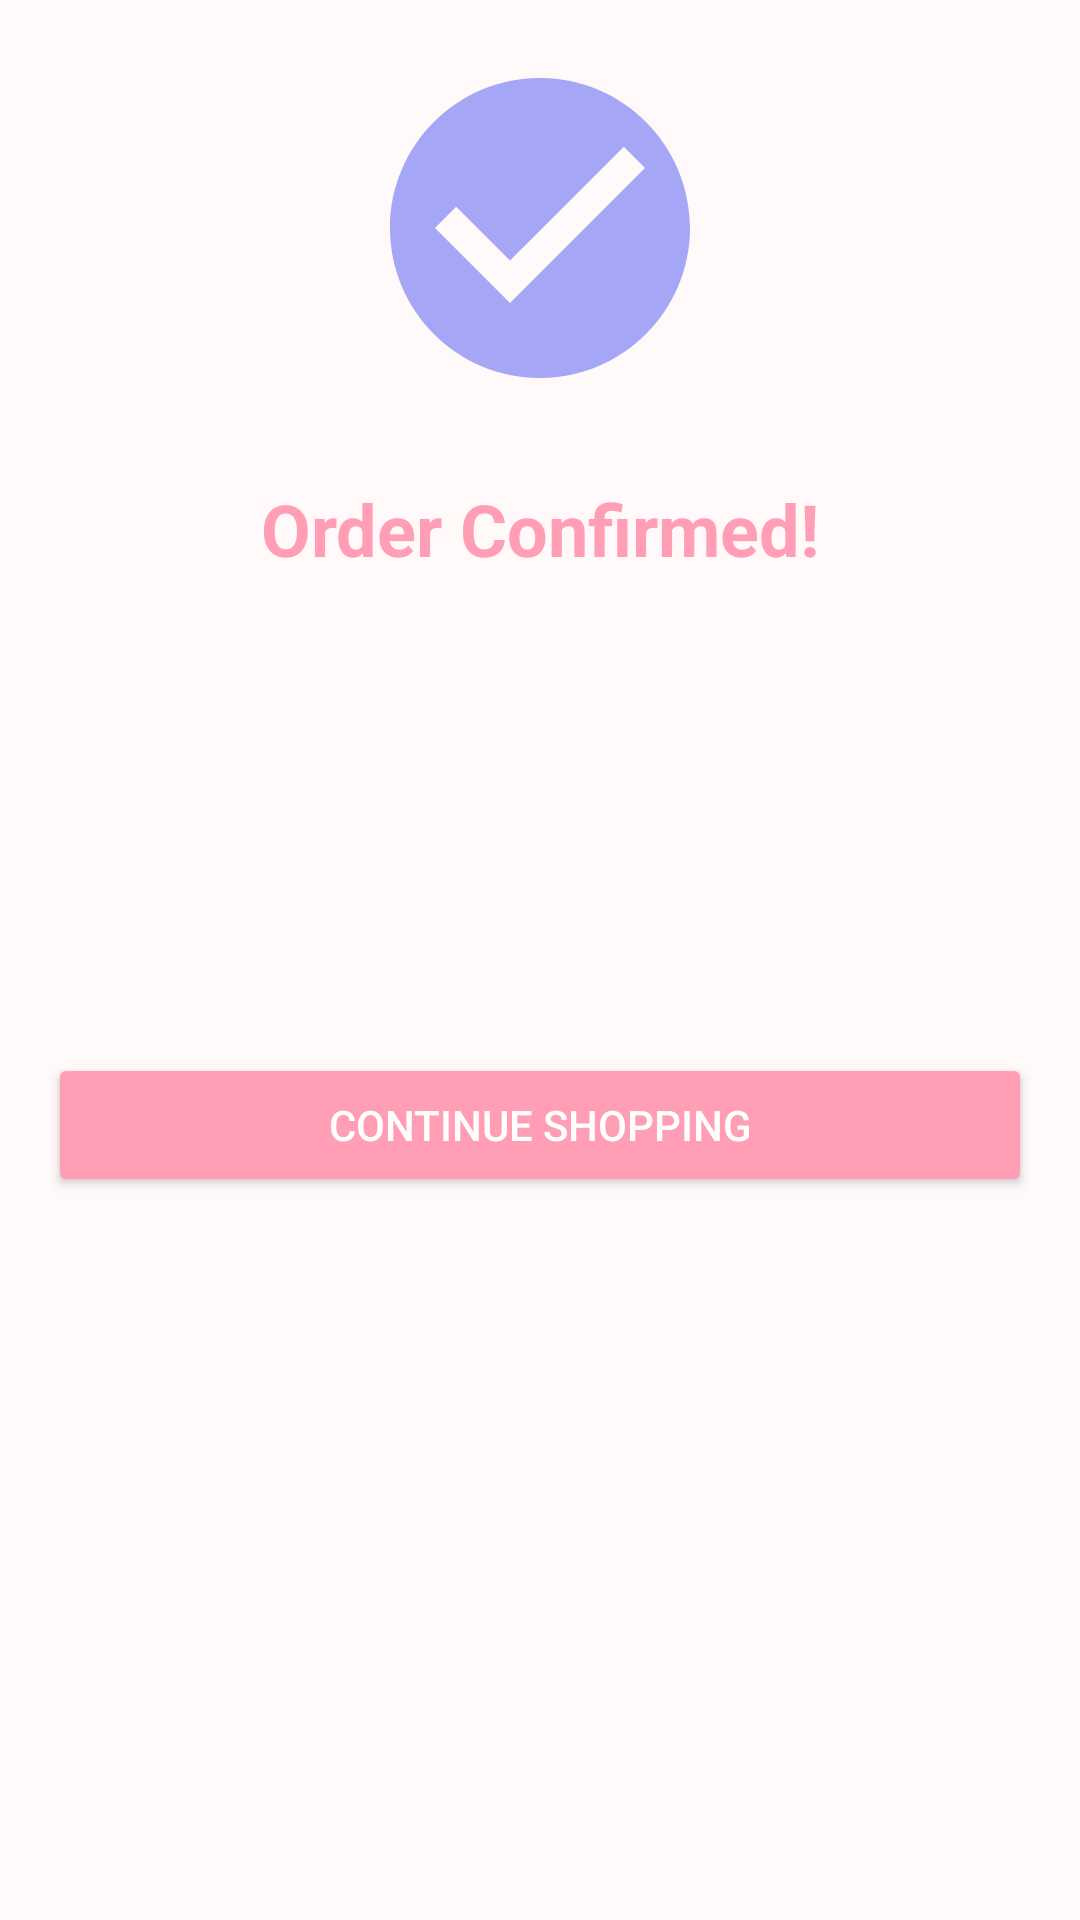

Point at icon controls on the screen. Image size 1080w x 1920h, points as point (x, y).
order confirmation: point (540, 228)
